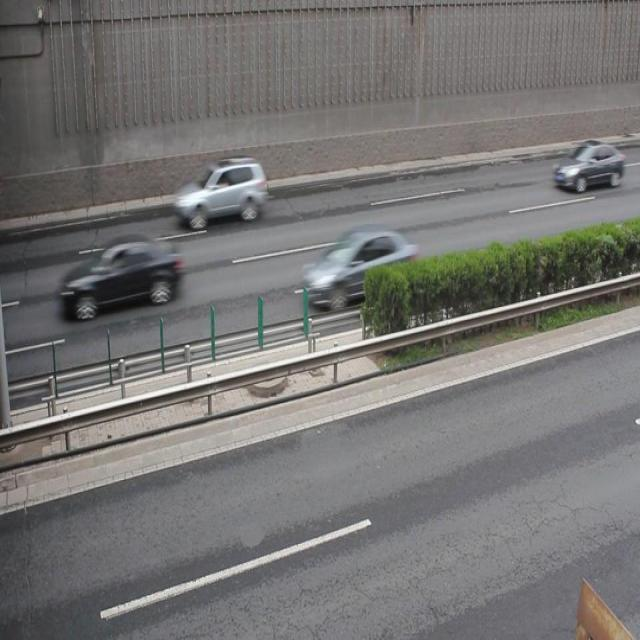car: (303, 228, 415, 312), (61, 242, 179, 316), (175, 159, 264, 229), (554, 140, 625, 194)
